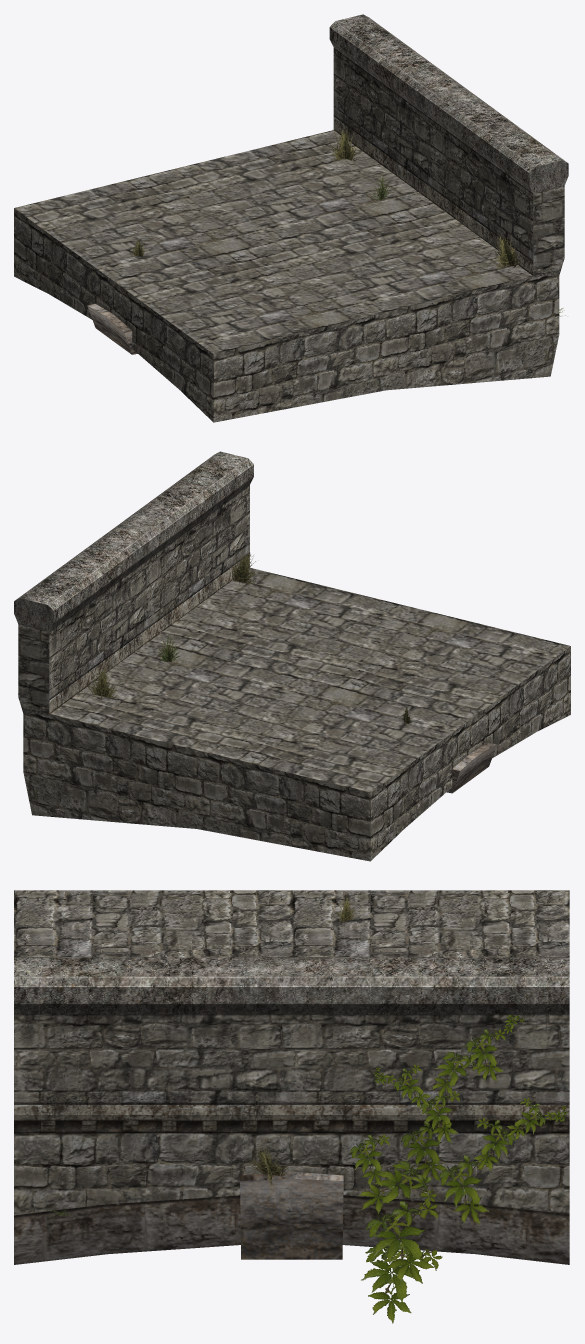
The model's file is StoneBridge_CrownDouble.dae.
The picture shows the model from 3 angles, top to bottom: view 1: azimuth 30°, elevation 25°; view 2: azimuth 150°, elevation 25°; view 3: azimuth 270°, elevation 25°; orthographic projection. The views are drawn at different scales.
Parts seen in each view (by area): view 1: CrownDoubleT, CrownDoubleW, Vegetation; view 2: CrownDoubleT, CrownDoubleW, Vegetation; view 3: CrownDoubleW, CrownDoubleT, Vegetation.
Part boxes in pixels (x1=…): CrownDoubleT: x1=14, y1=130, x2=559, y2=422; CrownDoubleW: x1=87, y1=14, x2=568, y2=354; Vegetation: x1=131, y1=127, x2=565, y2=316; CrownDoubleT: x1=23, y1=568, x2=570, y2=861; CrownDoubleW: x1=14, y1=451, x2=497, y2=793; Vegetation: x1=18, y1=551, x2=410, y2=723; CrownDoubleW: x1=14, y1=957, x2=569, y2=1264; CrownDoubleT: x1=14, y1=890, x2=569, y2=1215; Vegetation: x1=46, y1=896, x2=567, y2=1323.
Size of the model in its own units: 4.47 by 2.84 by 4.01.
Materials: 3 (3 with a texture image).
